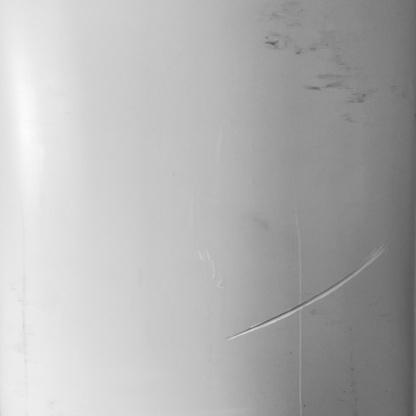sunshang: (228, 242, 386, 342)
